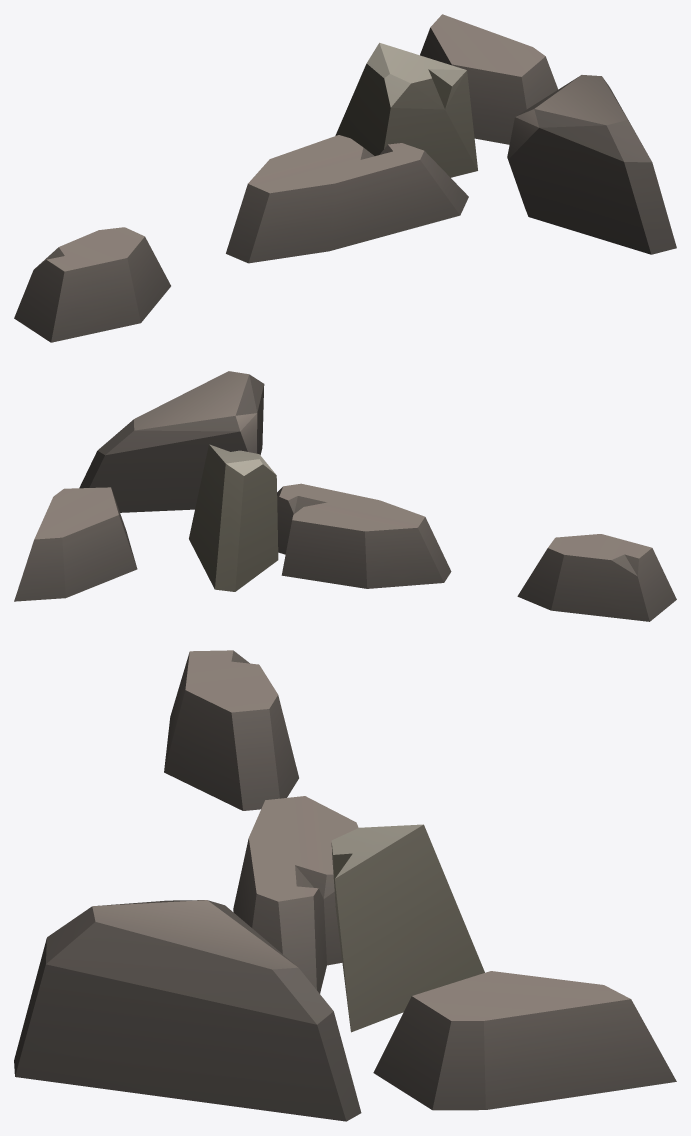
Rendered from Rock_Cluster_7A.fbx.
The picture shows the model from 3 angles, top to bottom: view 1: azimuth 30°, elevation 25°; view 2: azimuth 150°, elevation 25°; view 3: azimuth 270°, elevation 25°; orthographic projection. The views are drawn at different scales.
Parts seen in each view (by area): view 1: Rock_Cluster_7A; view 2: Rock_Cluster_7A; view 3: Rock_Cluster_7A.
Boxes of the visible parts, left/top/right/bottom form: Rock_Cluster_7A: left=14, top=14, right=676, bottom=342; Rock_Cluster_7A: left=14, top=371, right=676, bottom=621; Rock_Cluster_7A: left=14, top=650, right=676, bottom=1121.
Bounding box in the file's own units: 1.66 × 0.3098 × 1.14.
